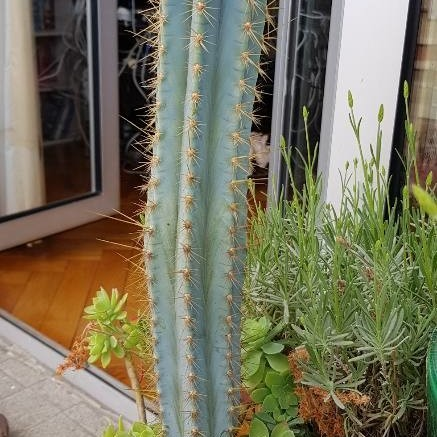obstacle: (126, 4, 260, 432), (284, 110, 428, 432), (69, 292, 161, 422)
